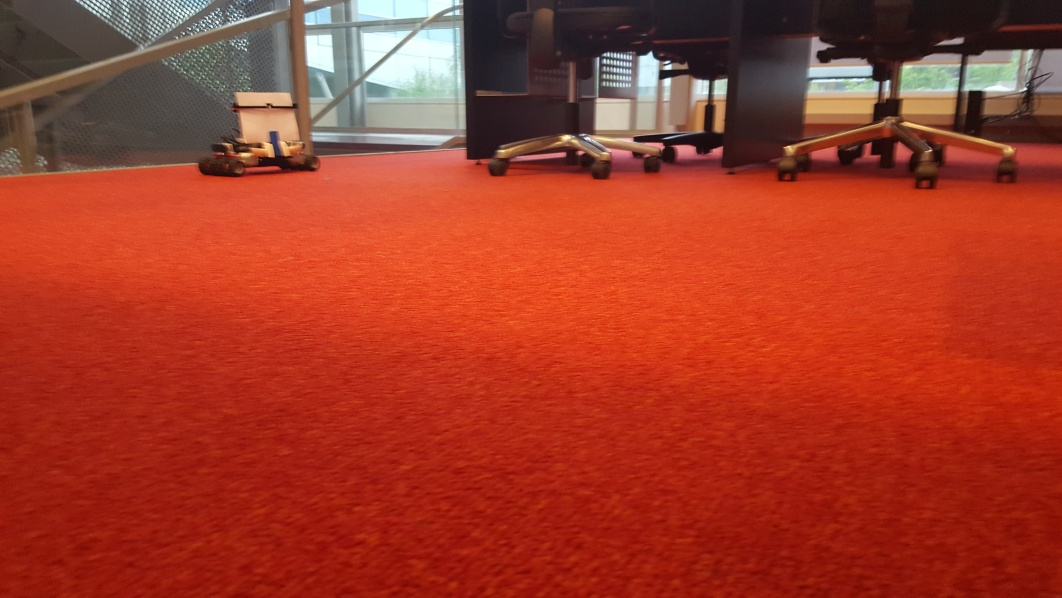car: (199, 89, 322, 177)
